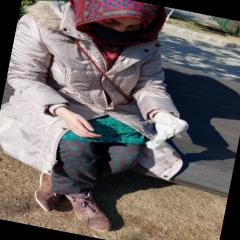gloved: (152, 110, 188, 142)
not-gloved: (50, 106, 102, 141)
